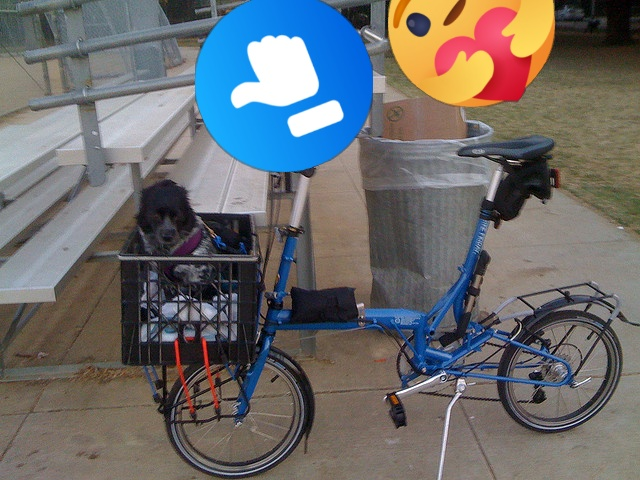care: (388, 0, 555, 107)
like: (195, 0, 373, 172)
